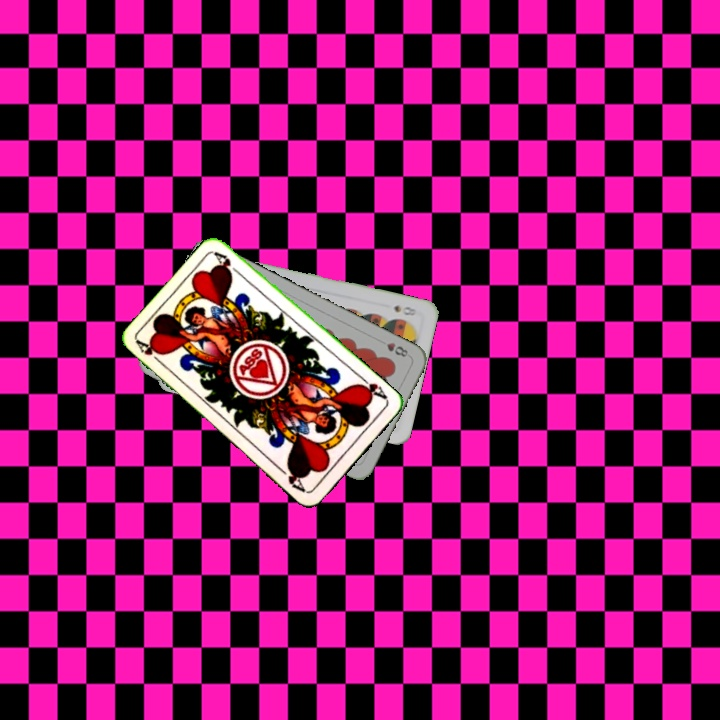H8: (375, 336, 410, 360)
HA: (353, 372, 390, 403), (133, 337, 167, 369)
S8: (390, 301, 419, 318)
